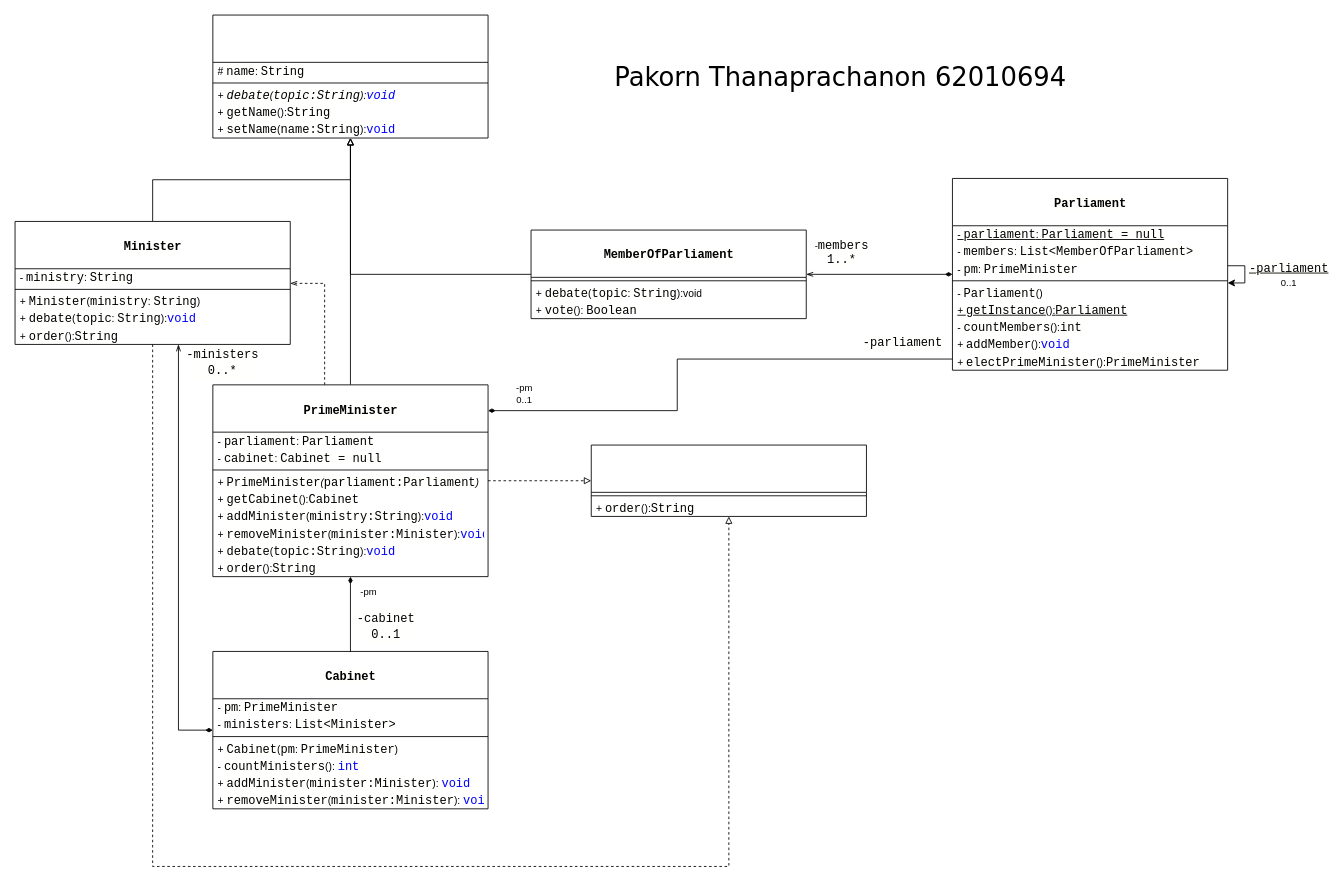
The diagram is 1342 pixels wide and 888 high, and some of its shapes have lost their labels. Each missing label, with the box of its shape:
<<interface>> OrderIssuable: (590, 444, 866, 516)
Politician: (212, 14, 488, 138)
